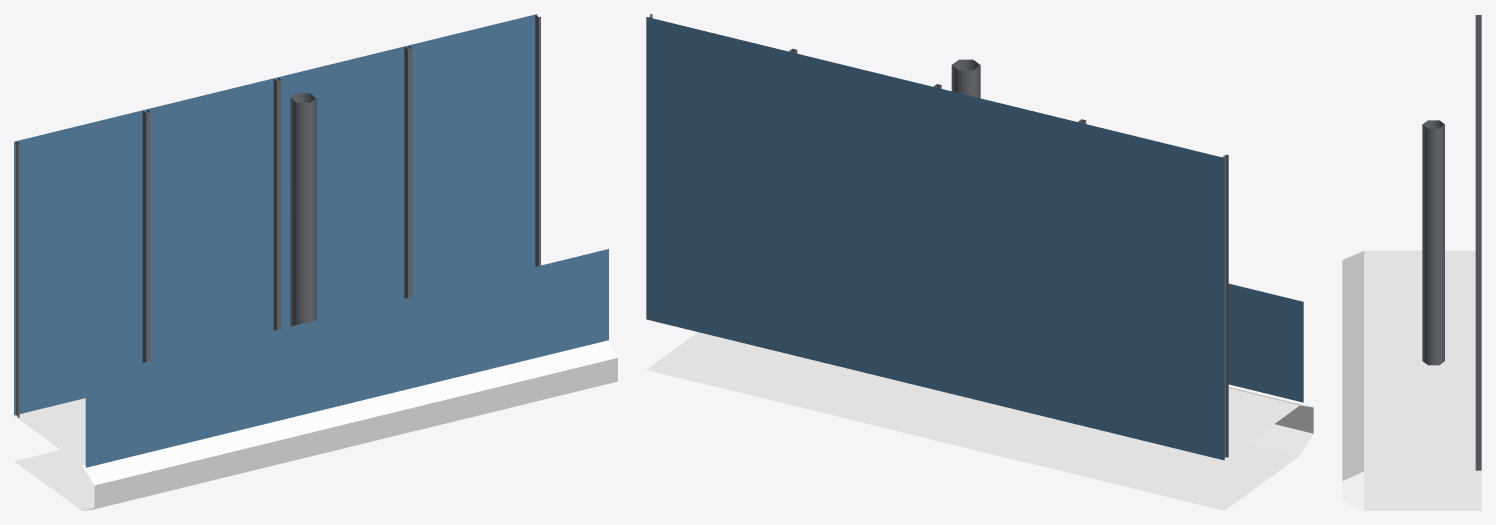
File: mid-w1.fbx
3 views of the same model, side by side, from view 1: azimuth 30°, elevation 25°; view 2: azimuth 150°, elevation 25°; view 3: azimuth 270°, elevation 25° (orthographic). The views are drawn at different scales.
Parts seen in each view (by area): view 1: a2012/800/mid-w1; view 2: a2012/800/mid-w1; view 3: a2012/800/mid-w1.
Part boxes in pixels (left/top/right/bottom): a2012/800/mid-w1: left=14, top=14, right=617, bottom=510; a2012/800/mid-w1: left=646, top=14, right=1313, bottom=510; a2012/800/mid-w1: left=1342, top=15, right=1481, bottom=510.
Bounding box in the file's own units: 6 × 3.5 × 1.6.
